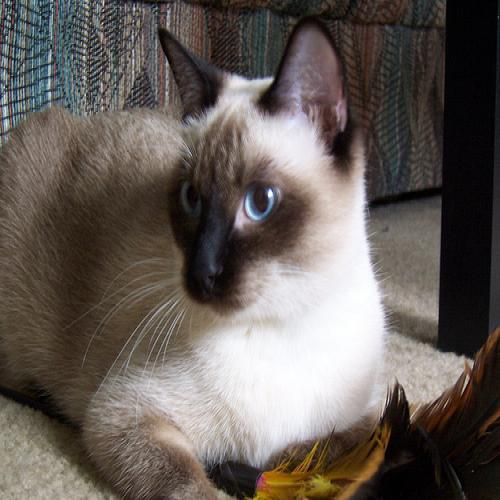siamese: (136, 8, 379, 339)
